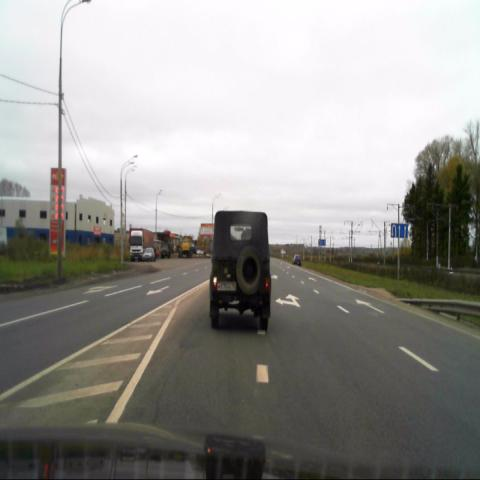5_15_1: (390, 223, 408, 238)
